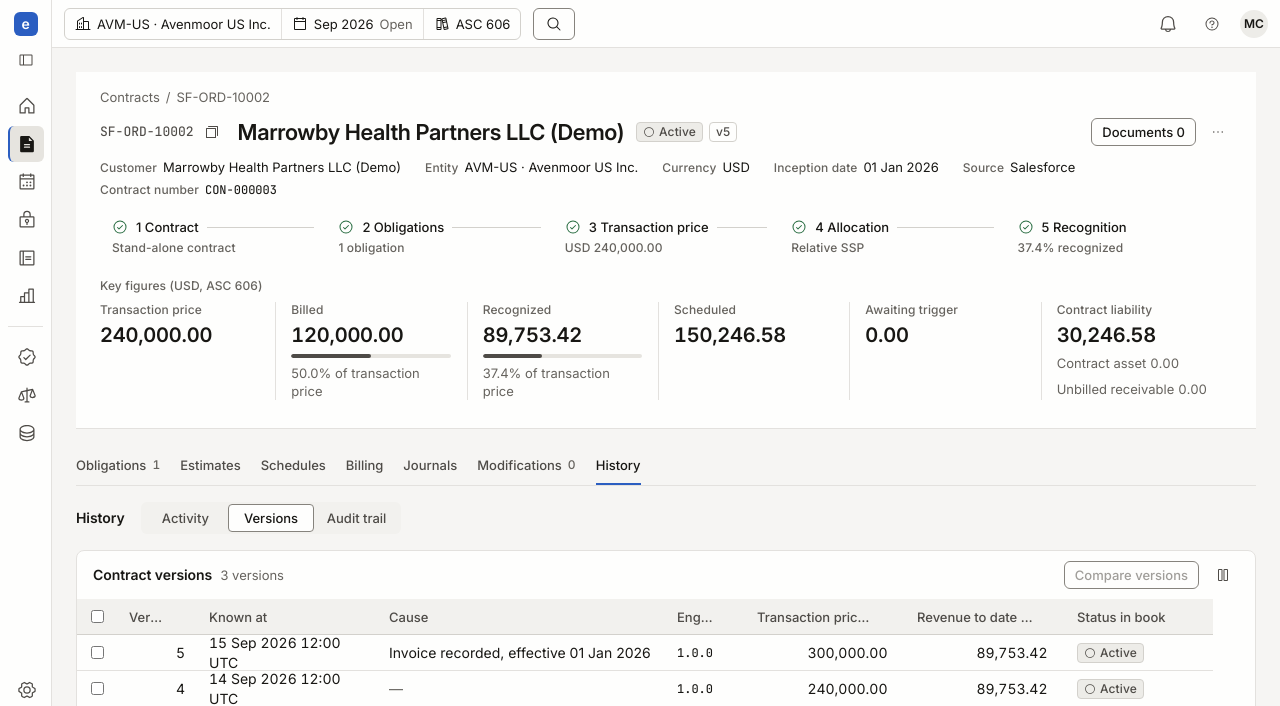
Test case: SF-03:history versions › compares two selected versions as a field diff grouped by obligation
Click the checkbox named "Select version 5" at point(97, 652), box [90, 646, 104, 659]
(page scrolled)
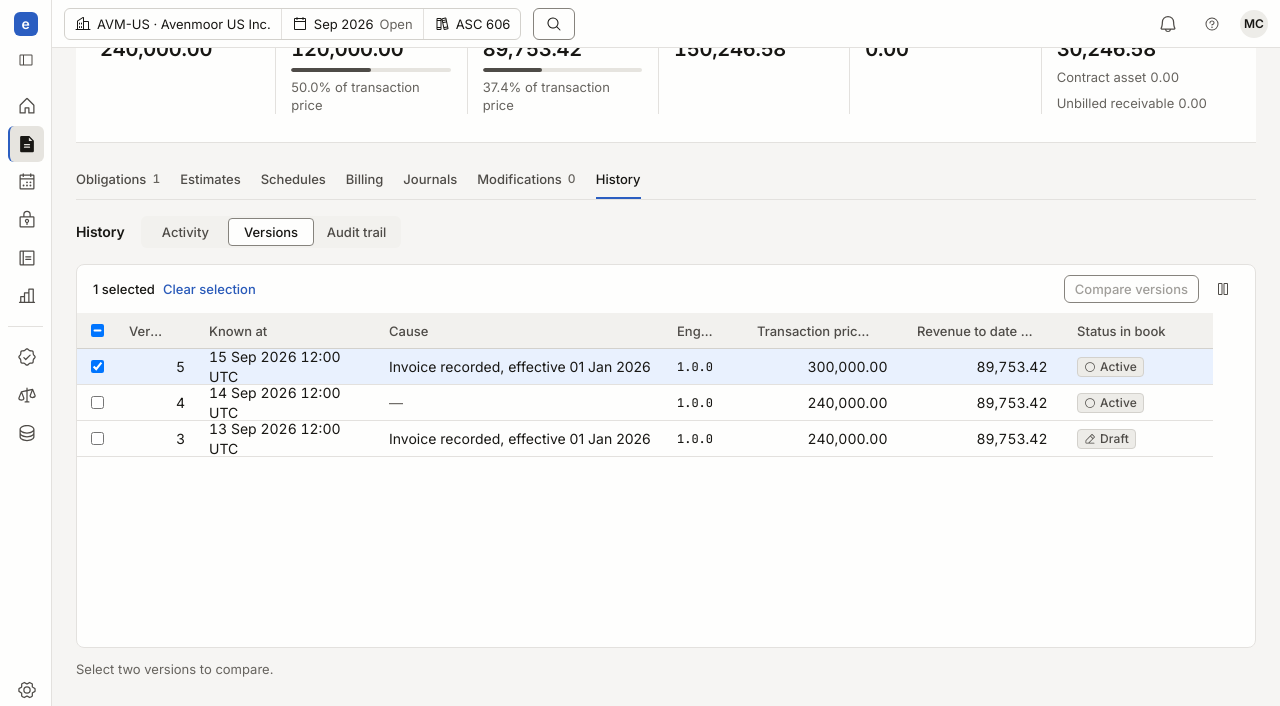
Click the checkbox named "Select version 3" at point(97, 438), box [90, 432, 104, 445]
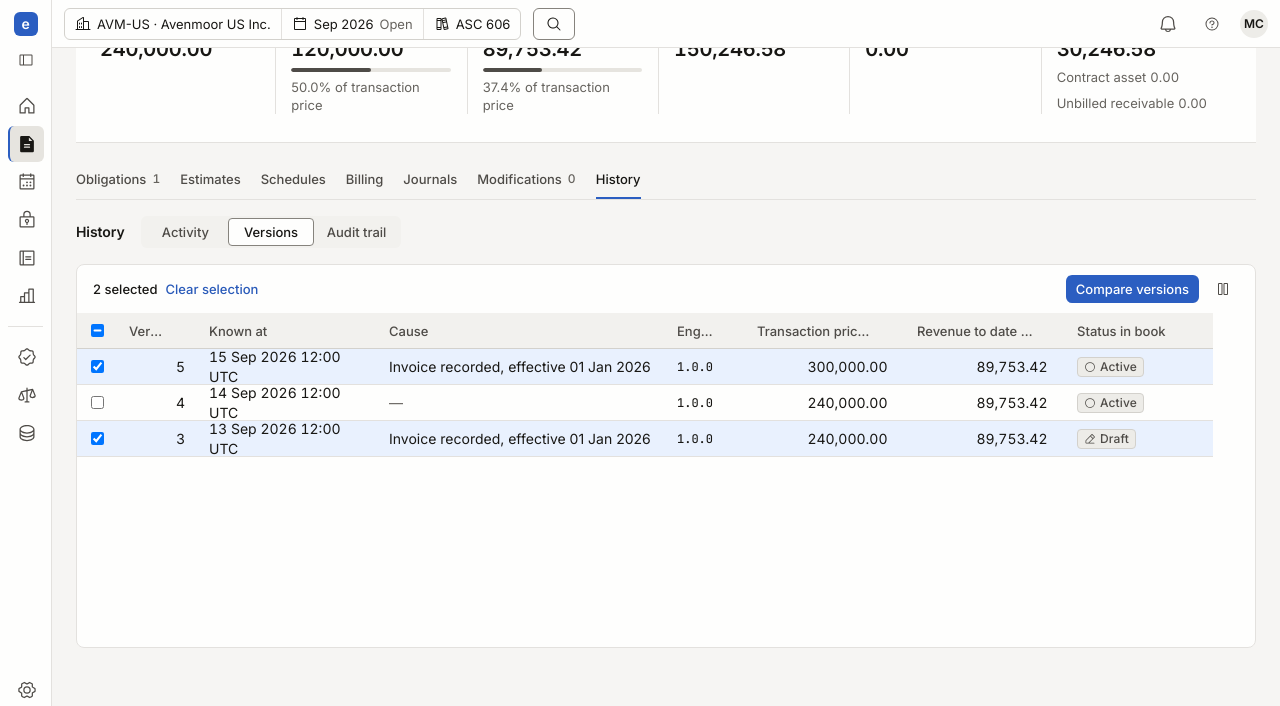
Expected: the button "Compare versions" does not have attribute aria-disabled
Click the button "Compare versions" at point(1132, 289), box [1066, 275, 1199, 303]
(page scrolled)
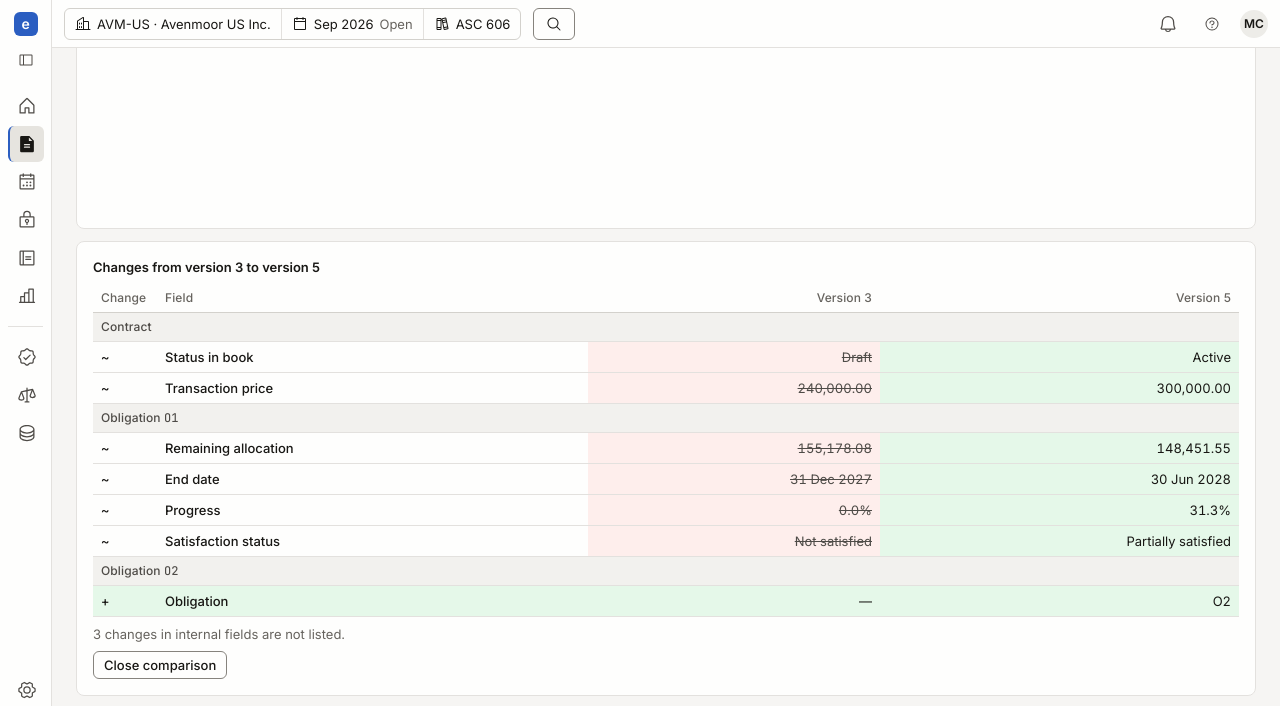
Expected: the column headings read "Change", "Field", "Version 3", "Version 5", in this order, [93, 284, 157, 312]; [157, 284, 588, 312]; [588, 284, 880, 312]; [880, 284, 1239, 312]
Expected: the text "3 changes in internal fields are not listed." is shown, [93, 626, 345, 642]
Click the button "Close comparison" at point(160, 665), box [93, 651, 227, 679]
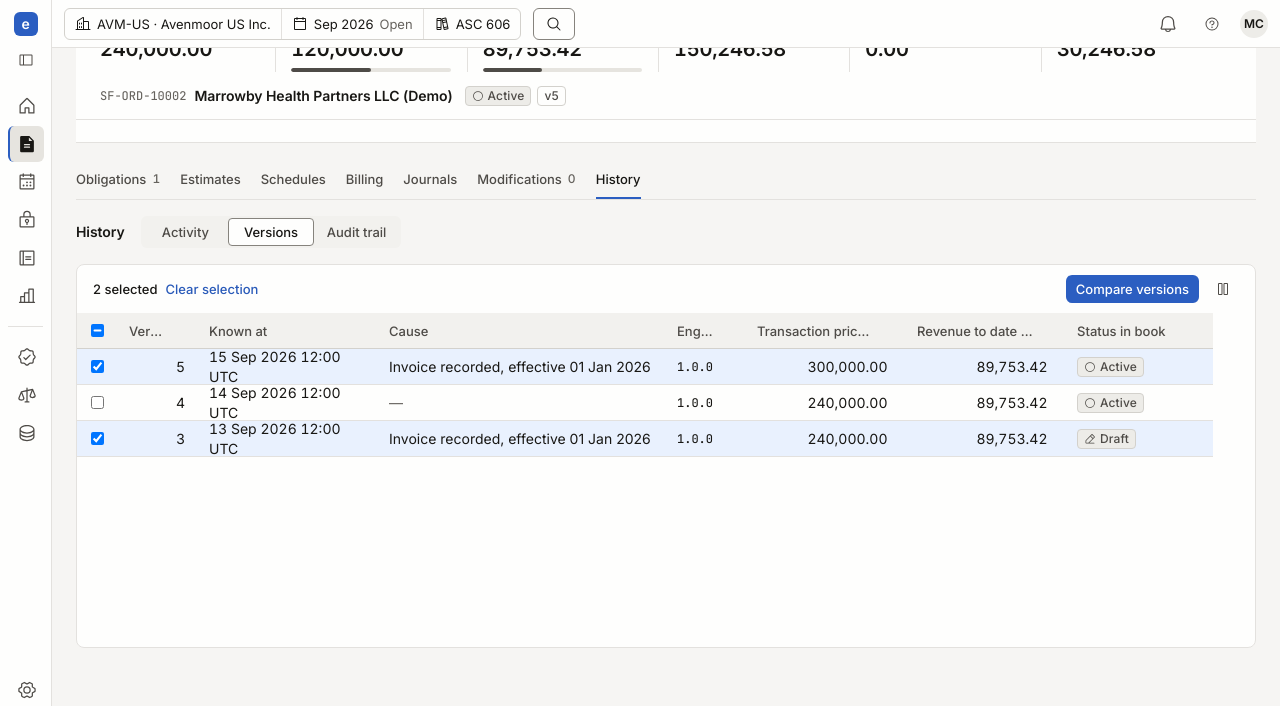
Expected: the table with test id "SF-03-diff" is gone
